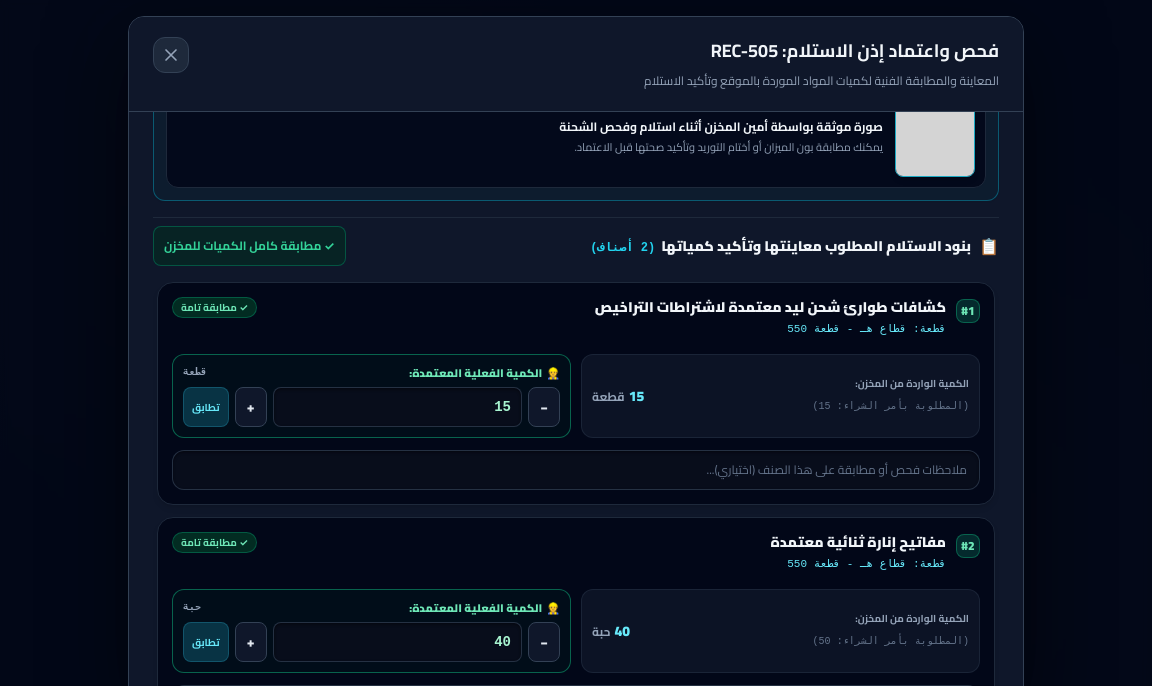
Test: QuickReceiptInspectionModal Component › validates quantities and blocks submission if negative or empty
(page scrolled)
Expected: the heading "كشافات طوارئ شحن ليد معتمدة لاشتراطات التراخيص" is shown, [595, 297, 946, 317]
Step 1. Replace the text in the 1st number field showing "15" with "-2" → point(397, 407), box [273, 387, 522, 427]
(page scrolled)
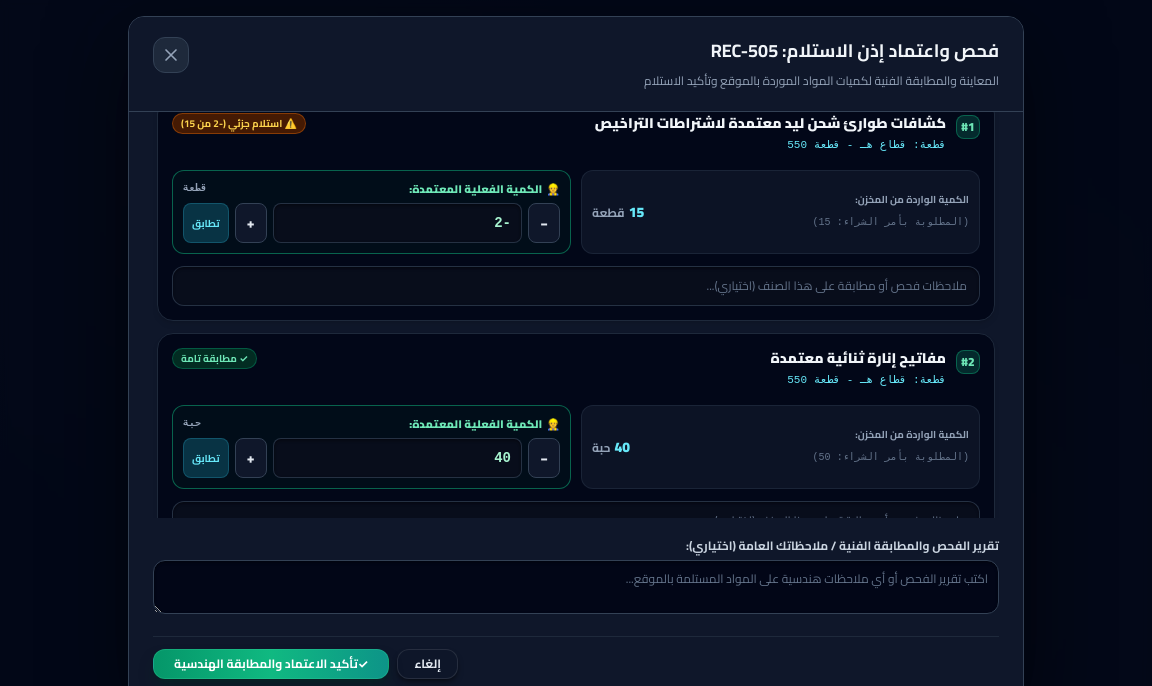
Step 2. Click the button "✓تأكيد الاعتماد والمطابقة الهندسية" → point(271, 664), box [153, 649, 389, 679]
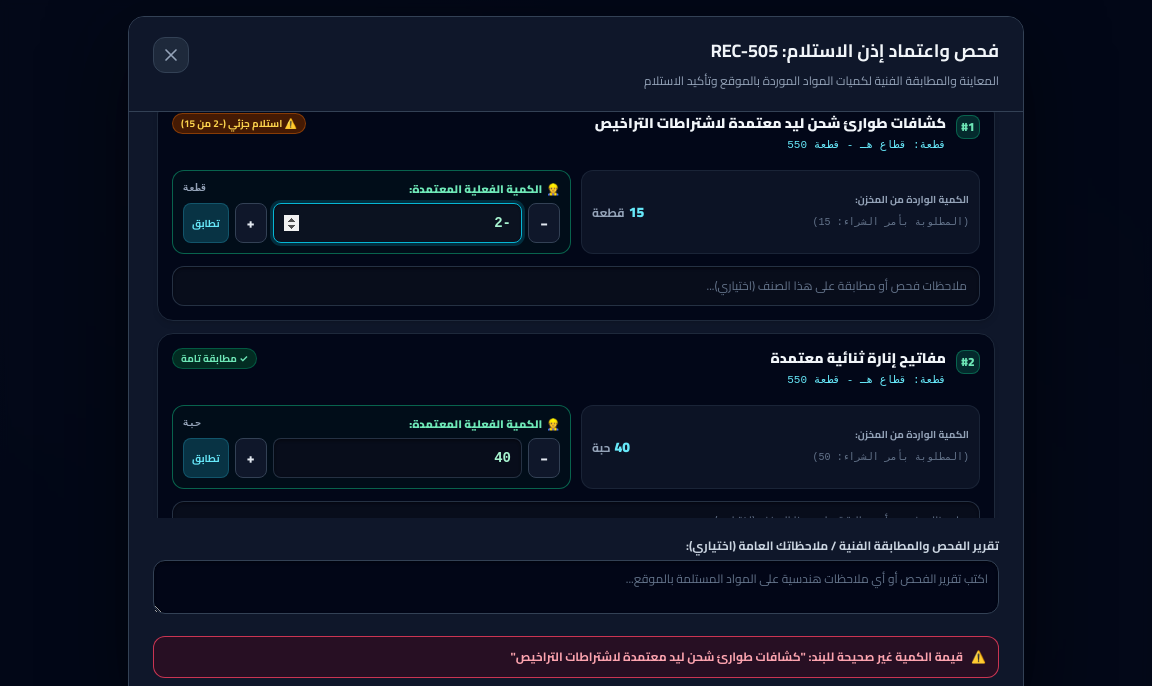
Now the text "قيمة الكمية غير صحيحة للبند" is shown, box [510, 645, 963, 668]
